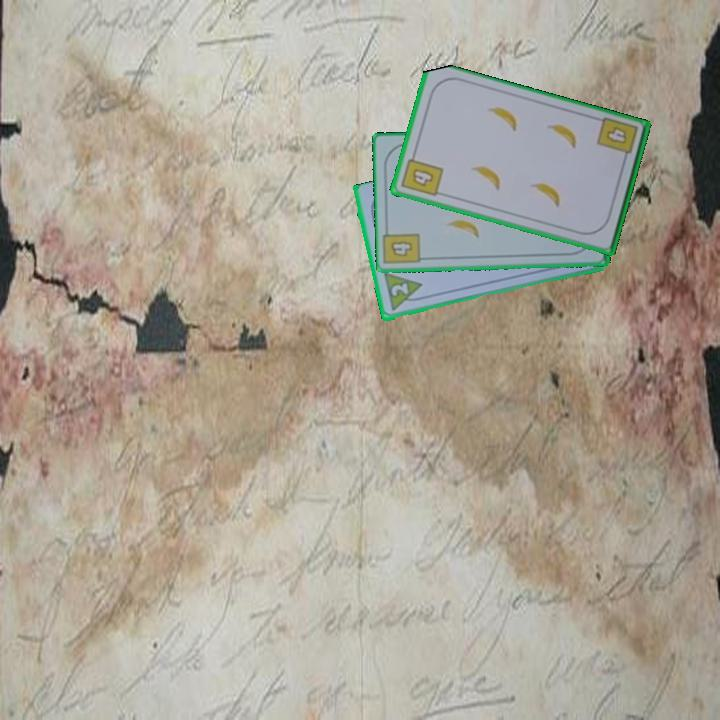2p: (380, 270, 427, 314)
4b: (594, 114, 641, 166), (398, 149, 446, 199), (387, 237, 415, 260)
